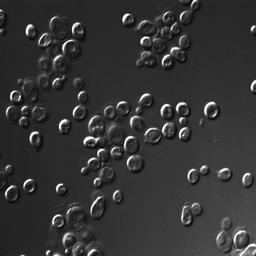Yeast: (47, 15, 72, 41), (66, 203, 88, 231), (134, 19, 160, 39), (90, 195, 110, 219), (87, 111, 105, 137), (136, 49, 159, 69), (23, 77, 40, 103), (232, 229, 252, 251), (107, 124, 127, 146), (62, 39, 81, 62), (215, 229, 233, 253), (52, 54, 70, 76), (126, 154, 145, 174), (98, 165, 117, 185), (31, 104, 50, 123), (180, 202, 194, 227), (4, 104, 21, 124), (71, 21, 87, 42), (130, 115, 148, 133), (203, 101, 220, 120), (144, 127, 163, 144), (29, 130, 43, 152), (46, 40, 63, 58), (124, 135, 140, 154), (72, 103, 88, 122), (169, 47, 188, 63), (151, 37, 168, 54), (56, 117, 72, 135), (37, 55, 53, 73), (24, 23, 40, 41), (62, 231, 78, 248), (162, 121, 178, 138), (116, 100, 132, 117), (138, 92, 154, 109), (159, 103, 175, 120), (37, 32, 53, 49), (5, 184, 20, 202), (36, 73, 52, 89), (216, 167, 233, 182), (109, 145, 124, 161), (175, 101, 191, 116), (53, 75, 68, 91), (178, 126, 192, 143), (178, 34, 192, 51), (162, 9, 176, 26), (187, 168, 200, 186), (121, 12, 136, 27), (104, 104, 118, 120), (161, 54, 175, 70), (23, 178, 37, 193), (52, 213, 66, 228), (87, 157, 102, 171), (179, 10, 194, 24), (112, 188, 125, 204), (242, 172, 255, 188), (97, 148, 111, 162), (191, 201, 204, 216), (83, 136, 98, 149), (10, 90, 23, 104), (55, 182, 68, 196), (73, 76, 86, 90), (160, 26, 173, 40), (77, 90, 89, 104), (139, 36, 153, 48), (221, 215, 232, 230), (19, 116, 31, 129), (170, 22, 181, 35), (200, 164, 211, 176), (93, 177, 104, 188), (21, 105, 32, 116), (190, 0, 201, 11), (178, 116, 189, 126), (135, 106, 144, 115), (80, 167, 90, 175), (17, 78, 24, 86)
